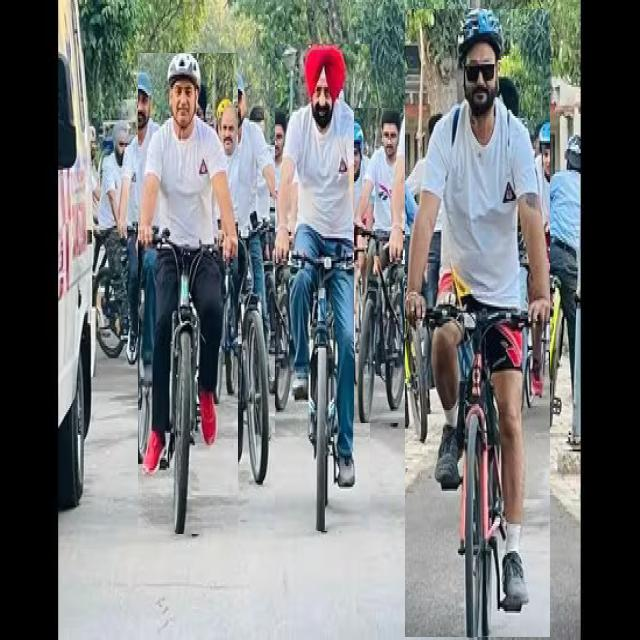bicycle: (405, 9, 550, 637), (138, 54, 237, 534), (275, 45, 370, 531), (217, 71, 280, 482), (354, 109, 405, 423)
